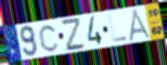4: (87, 15, 104, 47)
9: (19, 24, 40, 59)
A: (128, 8, 153, 42)
C: (38, 23, 60, 53)
L: (107, 13, 128, 43)
Z: (60, 17, 88, 53)
